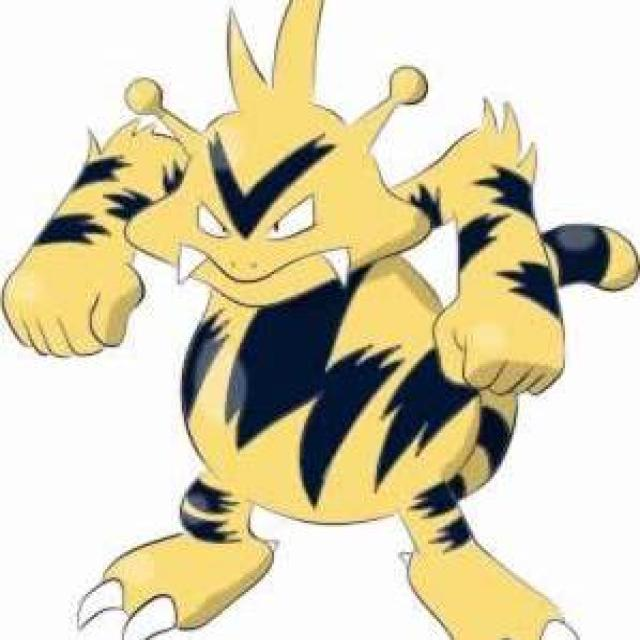Electabuzz: (26, 69, 562, 632)
